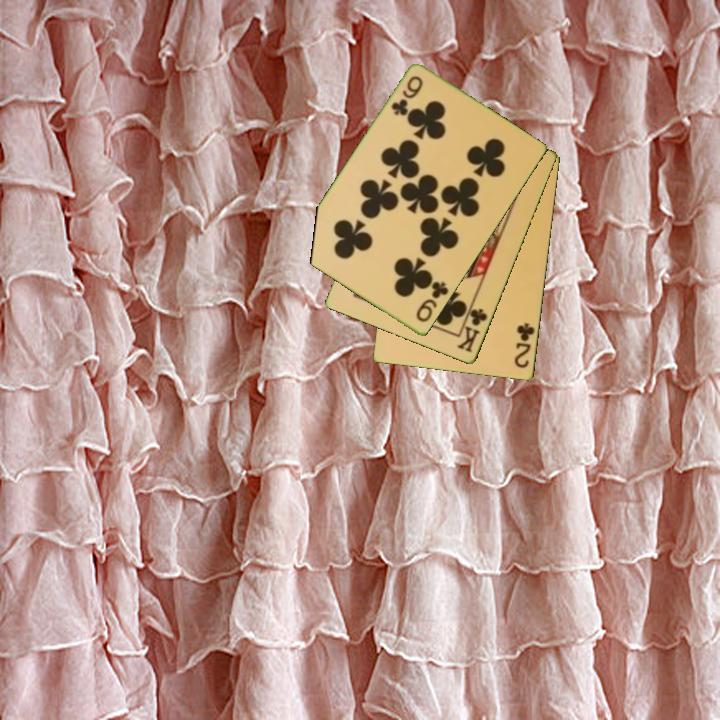2c: (511, 319, 538, 371)
9c: (412, 278, 452, 326), (388, 72, 426, 119)
Kc: (454, 299, 491, 356)
